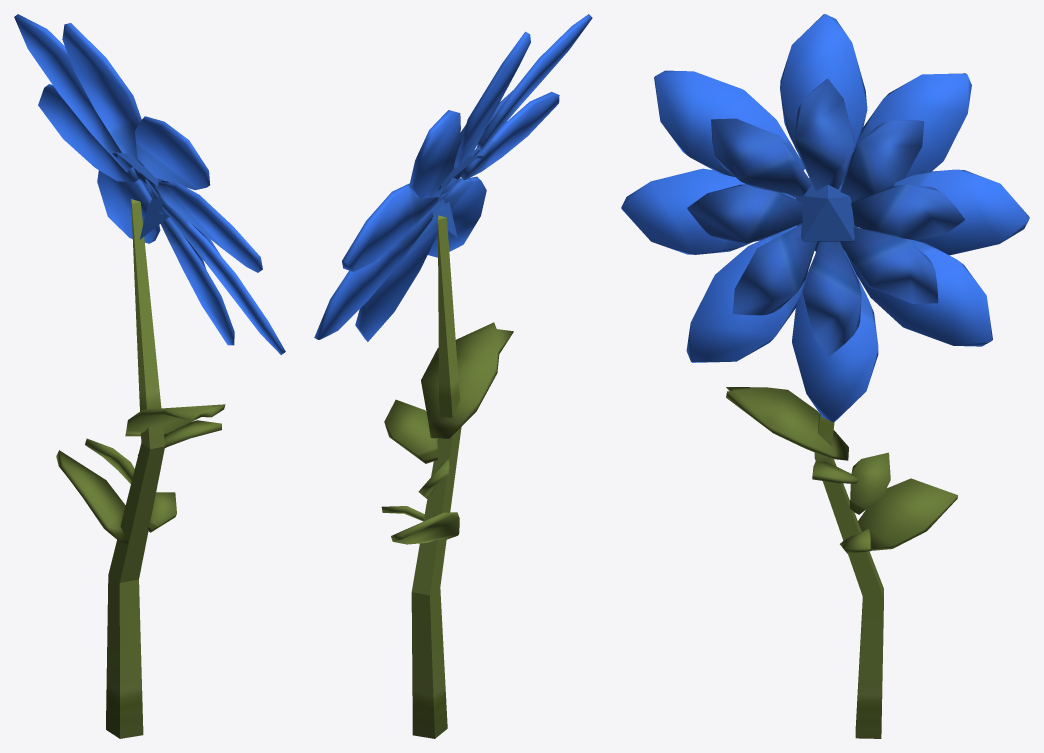
Rendered from PlantaFlorAzul.glb.
The picture shows the model from 3 angles, left to right: view 1: azimuth 30°, elevation 25°; view 2: azimuth 150°, elevation 25°; view 3: azimuth 270°, elevation 25°; orthographic projection. The views are drawn at different scales.
Parts seen in each view (by area): view 1: PlantaFlorAzul; view 2: PlantaFlorAzul; view 3: PlantaFlorAzul.
Part boxes in pixels (x1,y1,x2,y2): PlantaFlorAzul: [14, 14, 285, 738]; PlantaFlorAzul: [314, 14, 592, 738]; PlantaFlorAzul: [621, 14, 1029, 738].
Size of the model in its own units: 1.03 by 4.31 by 2.33.
1 material, 1 textured.
